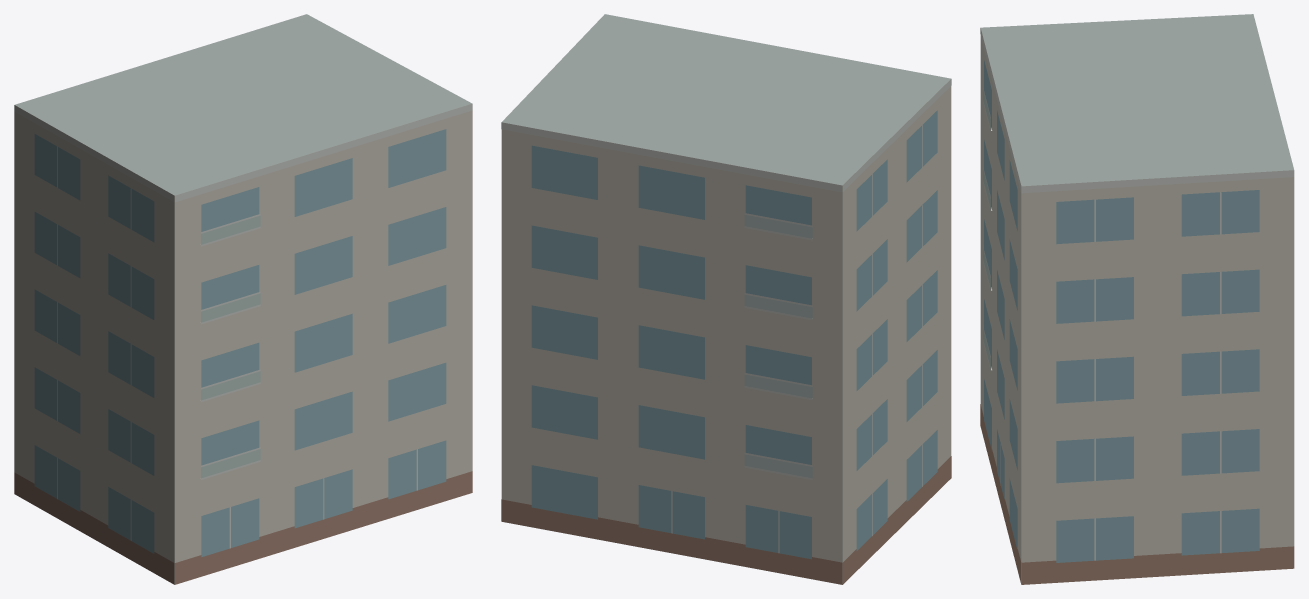
The model's file is survey-upis-32990837.glb.
3 views of the same model, side by side, from view 1: azimuth 30°, elevation 25°; view 2: azimuth 150°, elevation 25°; view 3: azimuth 270°, elevation 25° (orthographic). The views are drawn at different scales.
Visible parts, largest first — view 1: survey-upis-32990837.tmp; view 2: survey-upis-32990837.tmp; view 3: survey-upis-32990837.tmp.
Part boxes in pixels (x1=…): survey-upis-32990837.tmp: x1=14, y1=14, x2=472, y2=584; survey-upis-32990837.tmp: x1=501, y1=14, x2=951, y2=584; survey-upis-32990837.tmp: x1=980, y1=14, x2=1294, y2=584.
Bounding box in the file's own units: 13.09 × 14.1 × 10.07.
